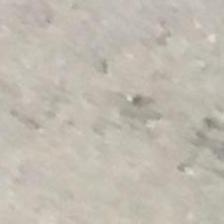Non_Crack: (14, 17, 194, 195)
